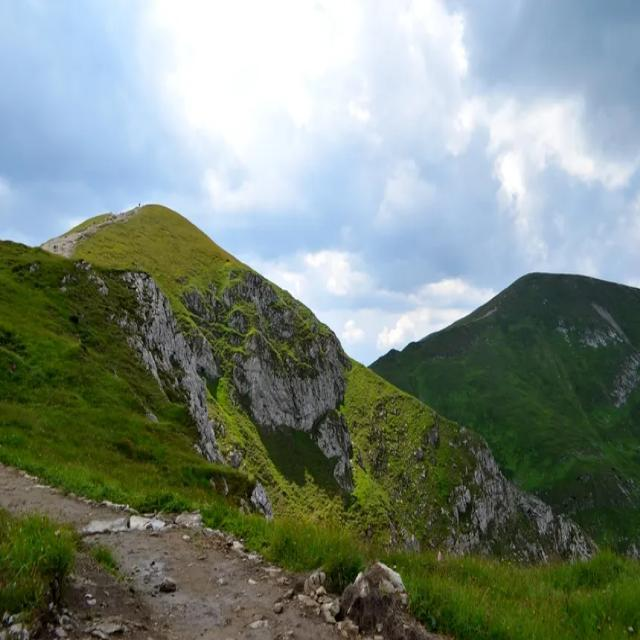Kopa Kondracka: (89, 131, 210, 276)
Malolaczniak: (450, 184, 631, 356)
